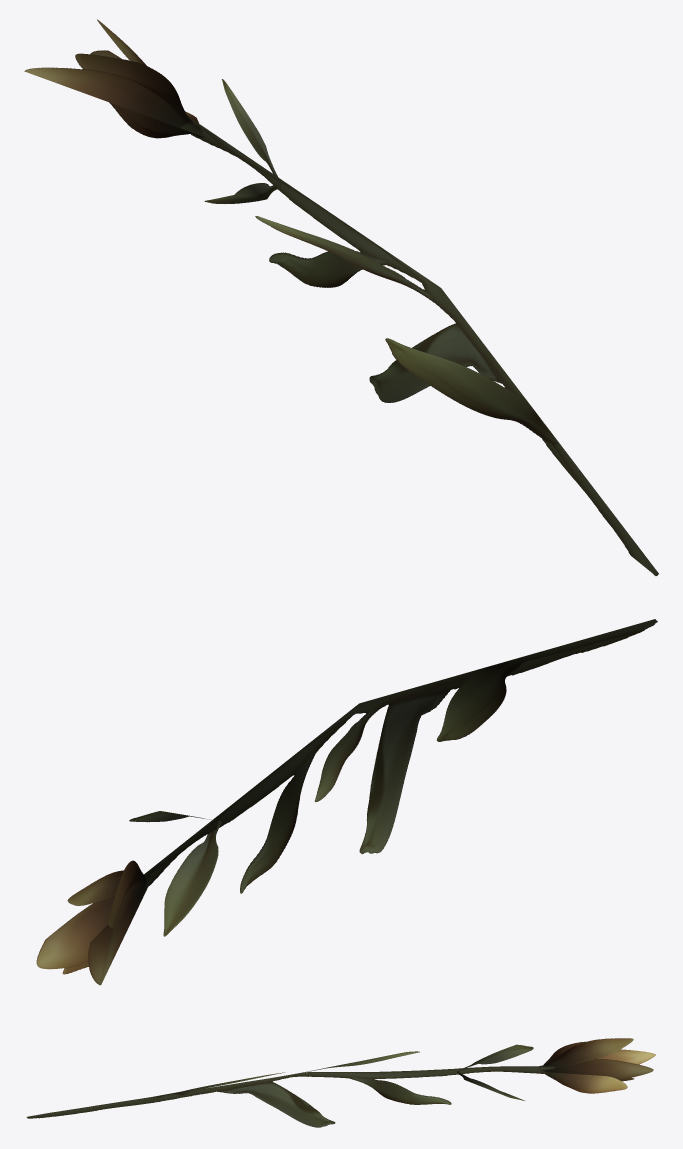
The model's file is TI_Flower_01_c.fbx.
3 views of the same model, one above another, from view 1: azimuth 30°, elevation 25°; view 2: azimuth 150°, elevation 25°; view 3: azimuth 270°, elevation 25° (orthographic). The views are drawn at different scales.
Parts seen in each view (by area): view 1: TI_Flower_01_c; view 2: TI_Flower_01_c; view 3: TI_Flower_01_c.
Part boxes in pixels (x1,y1,x2,y2): TI_Flower_01_c: (24,19,658,575); TI_Flower_01_c: (36,619,657,985); TI_Flower_01_c: (26,1038,655,1127).
Size of the model in its own units: 0.1455 by 0.1974 by 1.06.
